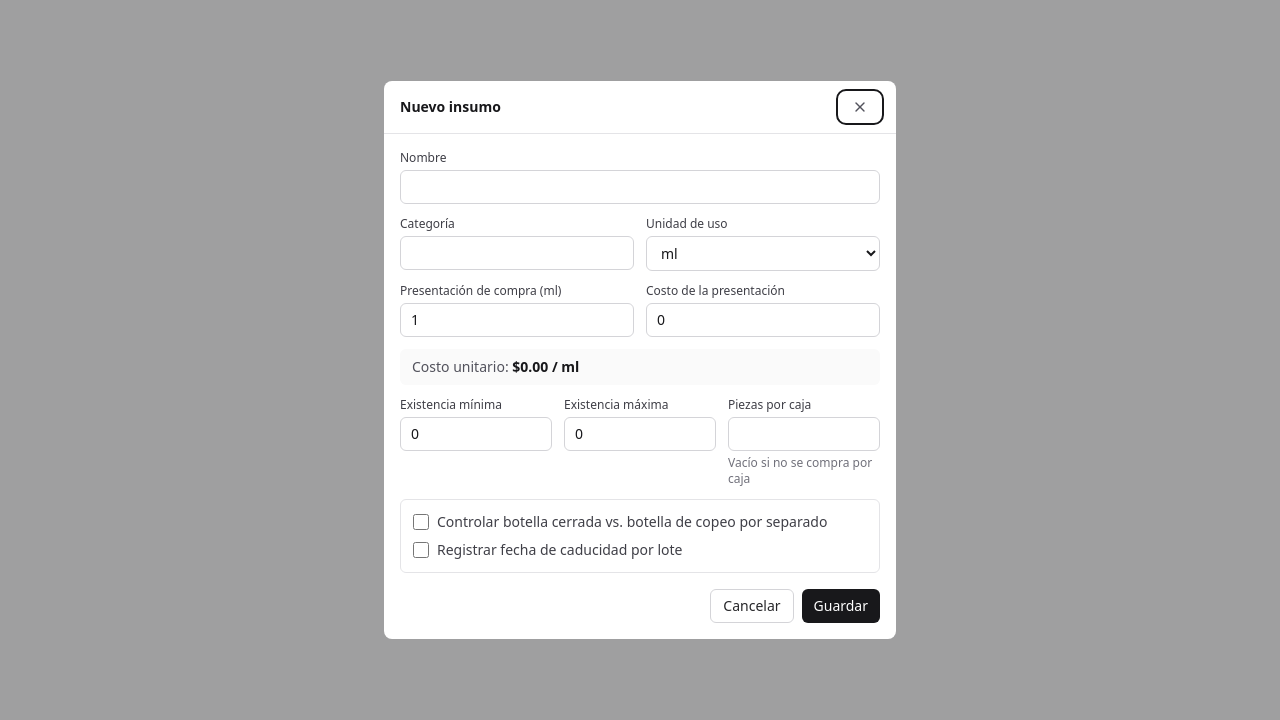
<ModalEditarInsumo> › no guarda con presentación cero y explica por qué
Type "Whisky" into the field labelled "Nombre".
click(640, 187); type("Whisky")  # box [400,170,880,204]
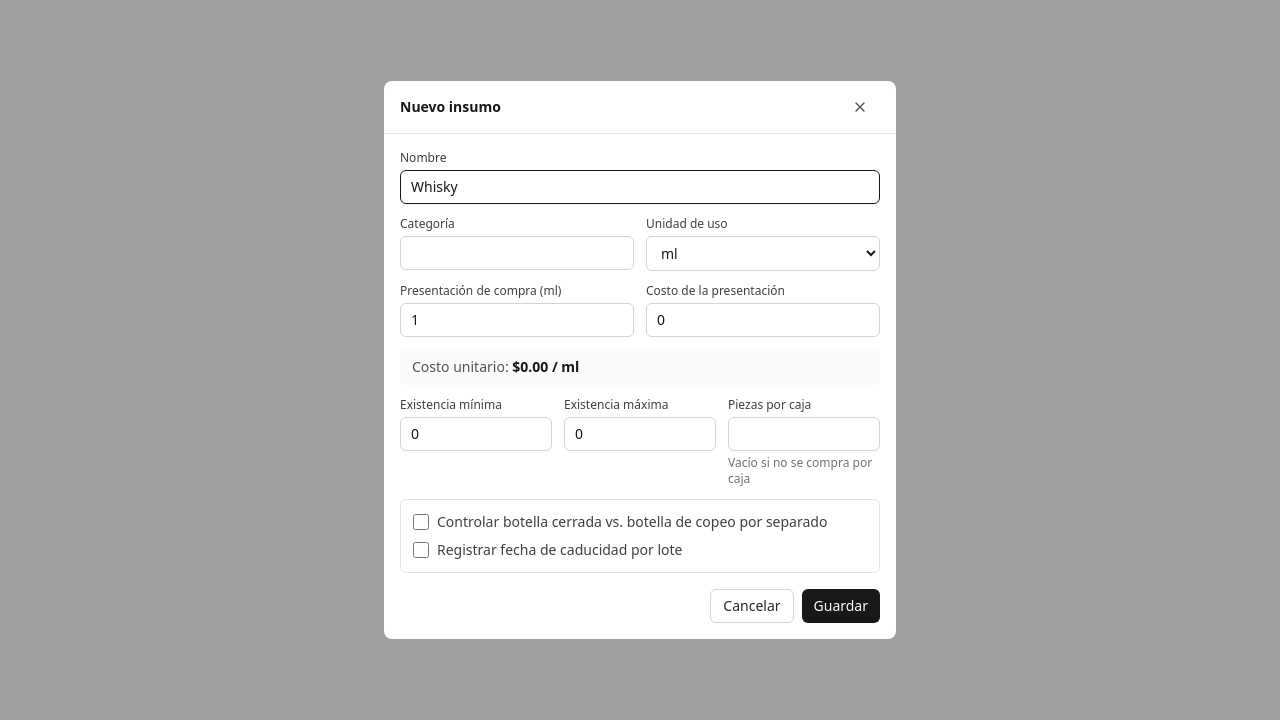
Type "Destilados" into the field labelled "Categoría".
click(517, 253); type("Destilados")  # box [400,236,634,270]
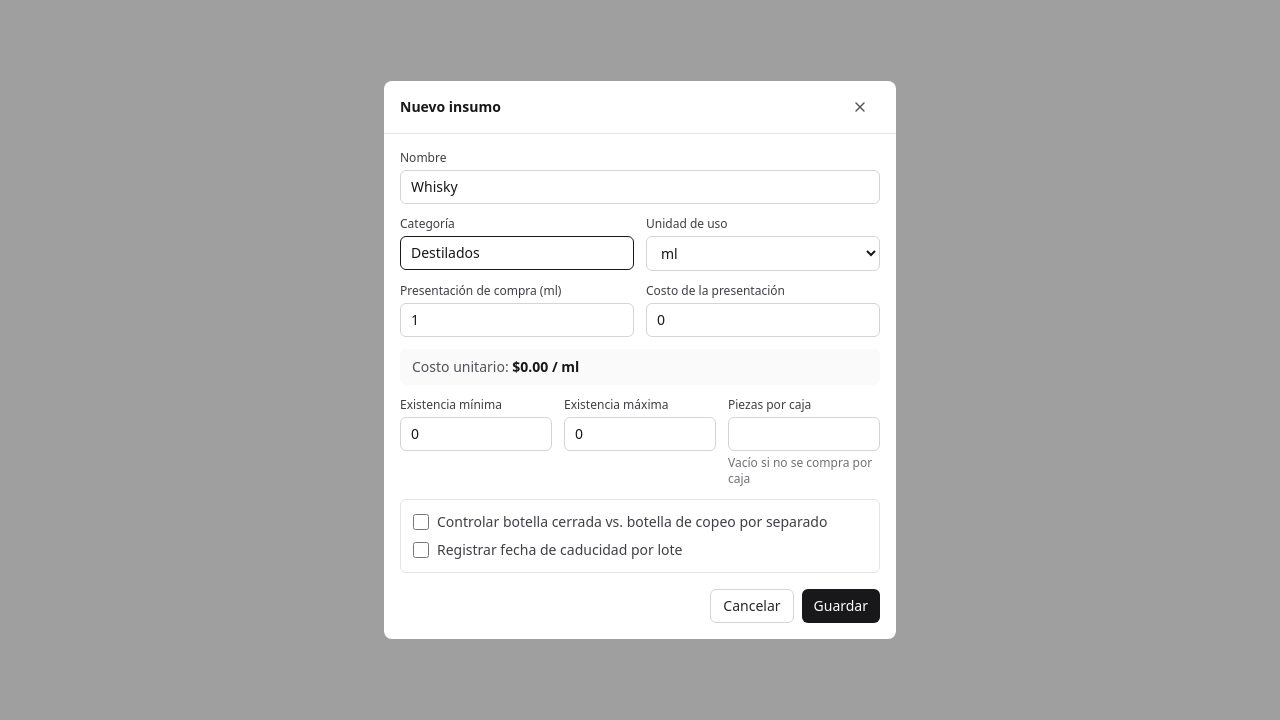
Replace the text in the number field labelled "Presentación de compra (ml)" with "0" at (517, 320), box [400,303,634,337]
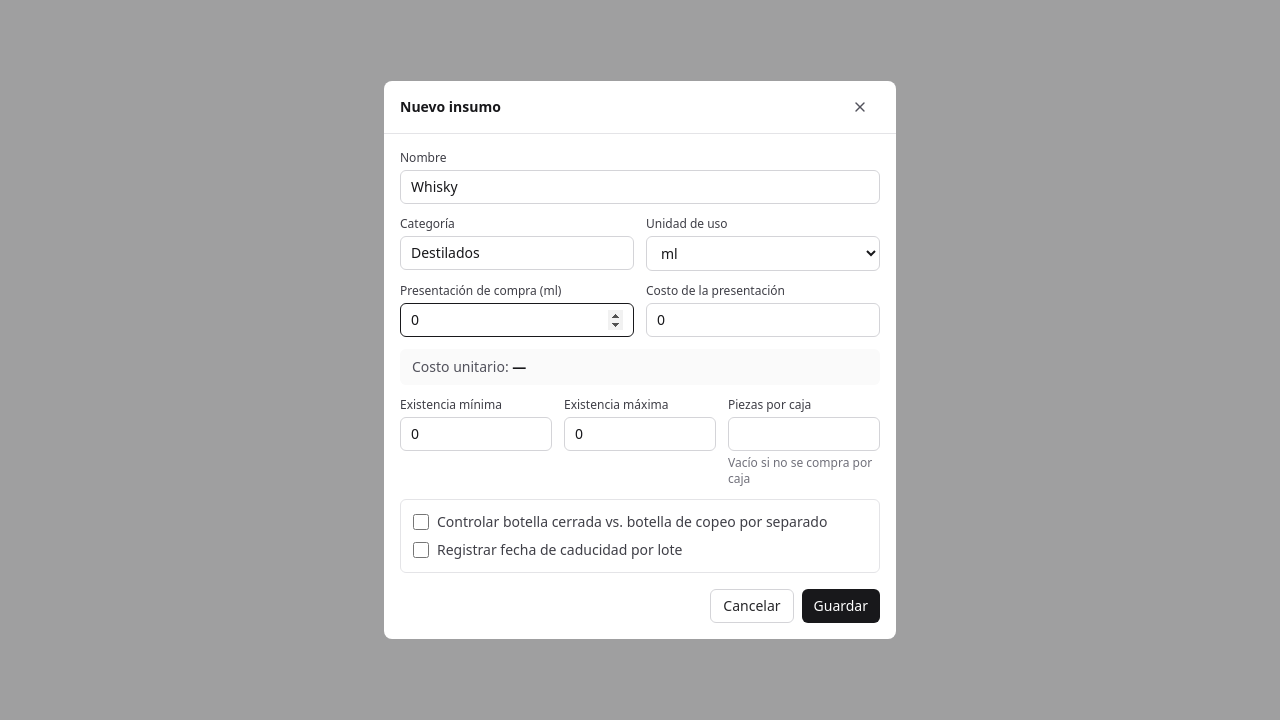
Click the button "Guardar".
click(841, 606)  # box [802,589,880,623]
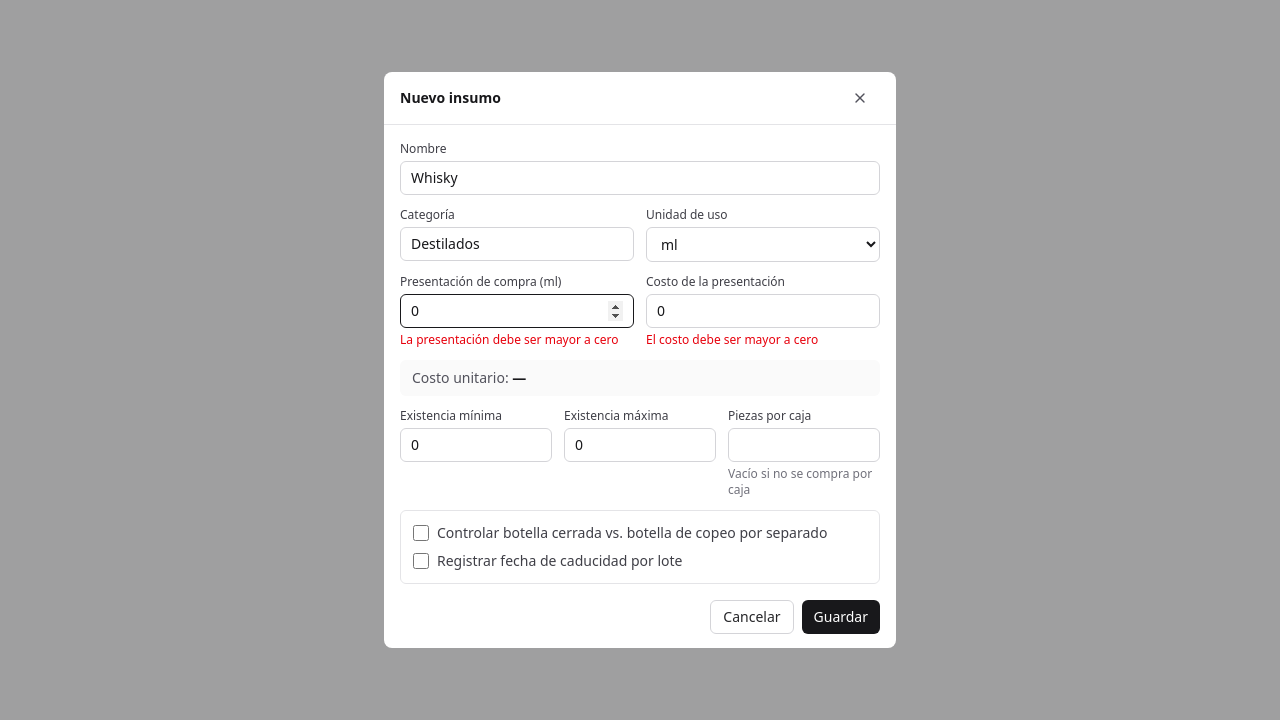
Check: the text "La presentación debe ser mayor a cero" is shown, box [400,332,634,348]
